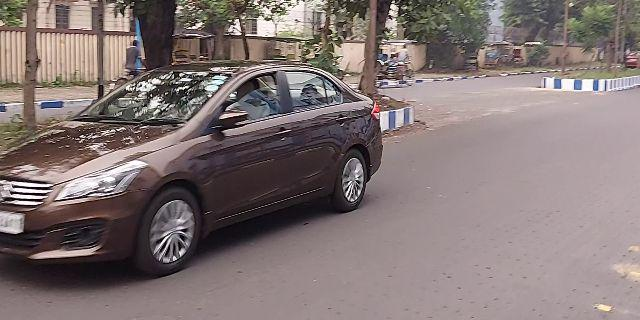Car: (1, 58, 386, 275)
